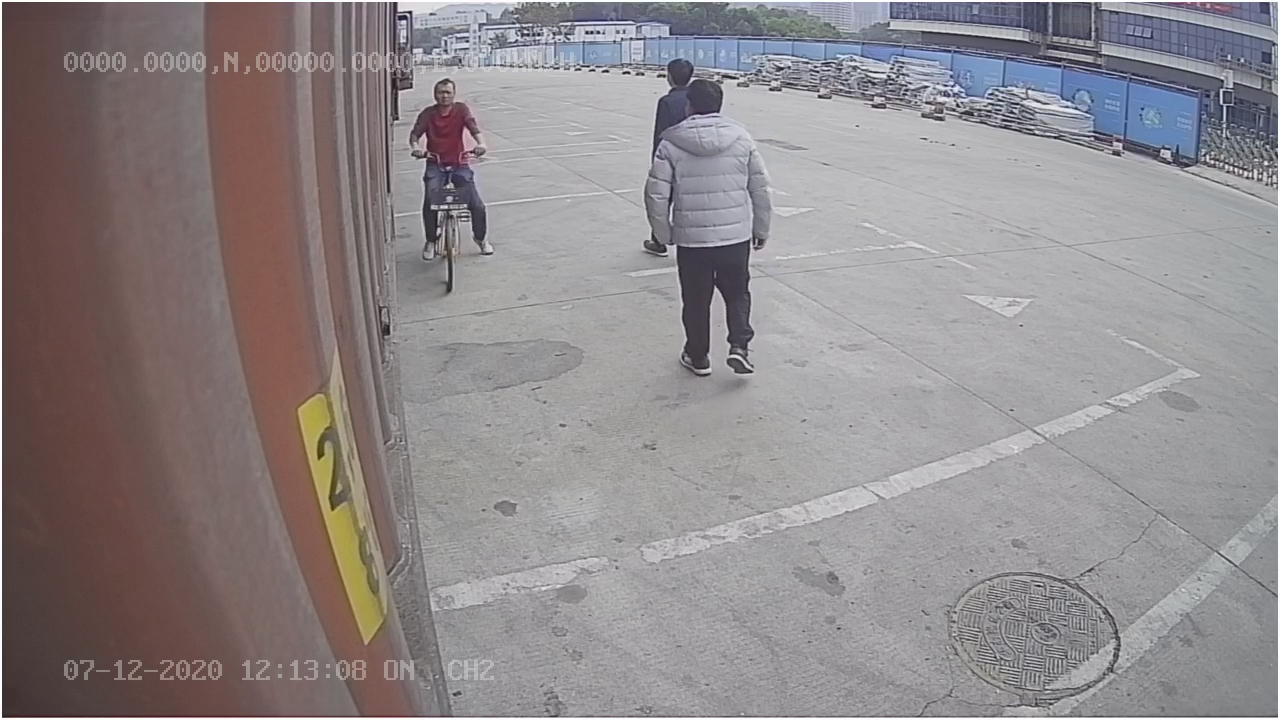person: (641, 74, 773, 374)
